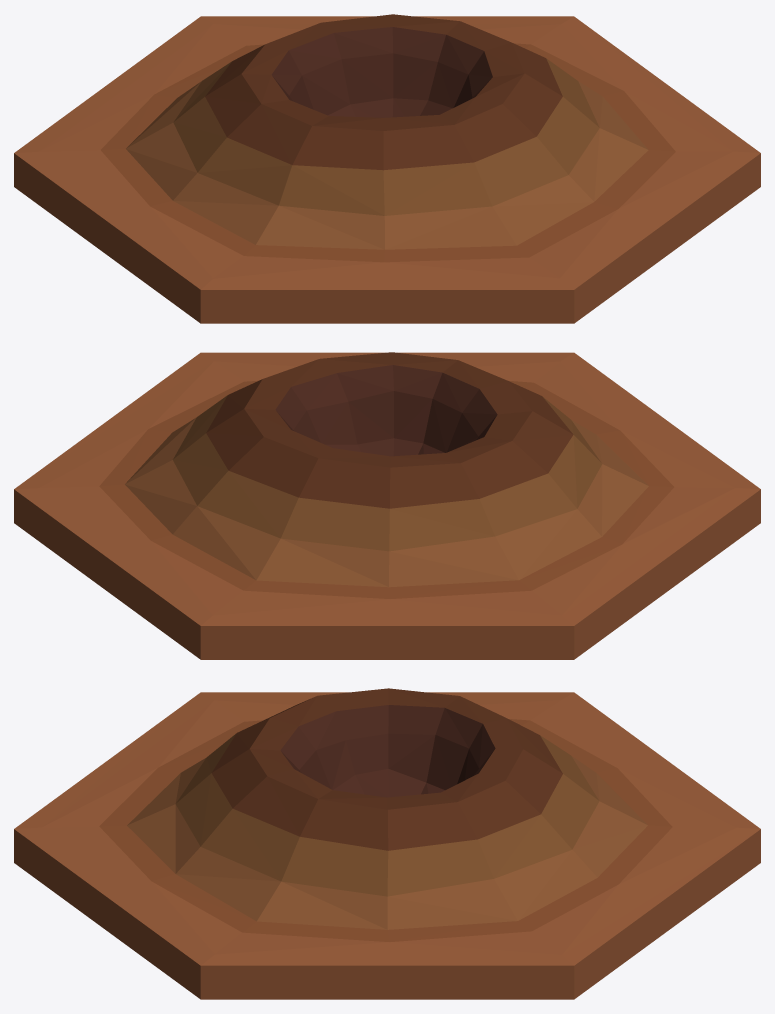
The model's file is brick.dae.
3 views of the same model, one above another, from view 1: azimuth 30°, elevation 25°; view 2: azimuth 150°, elevation 25°; view 3: azimuth 270°, elevation 25° (orthographic).
Parts seen in each view (by area): view 1: Cylinder; view 2: Cylinder; view 3: Cylinder.
Boxes of the visible parts, x1,y1,x2,y2 form: Cylinder: (14, 14, 760, 323); Cylinder: (14, 352, 760, 659); Cylinder: (14, 688, 760, 999).
Bounding box in the file's own units: 1.73 × 2 × 0.3381.
